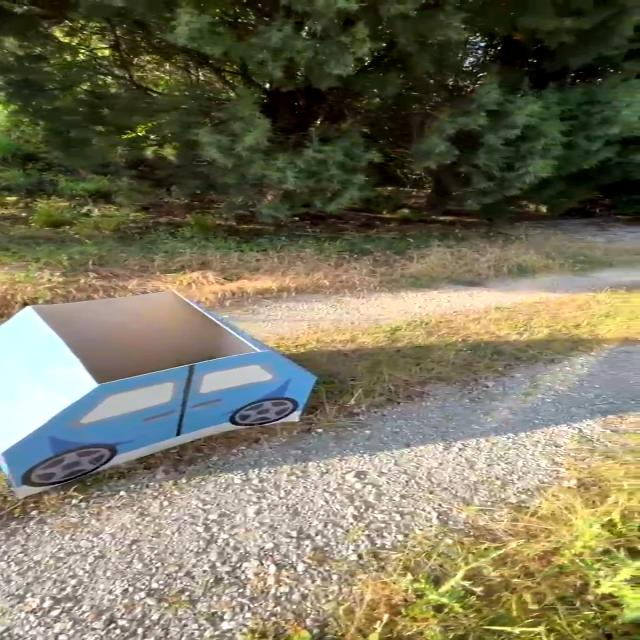blue_car: (0, 266, 345, 517)
